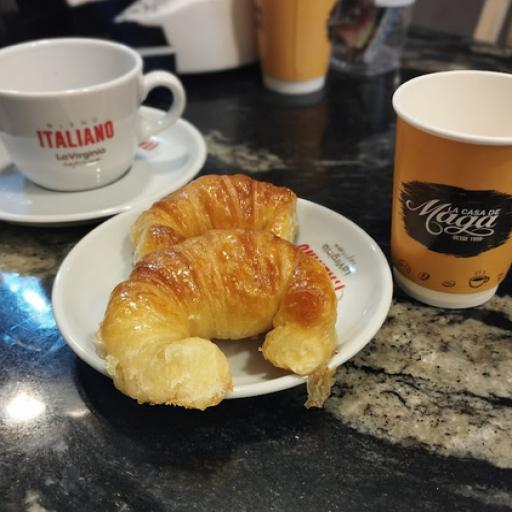bolleria: (95, 229, 337, 409), (130, 174, 298, 263)
